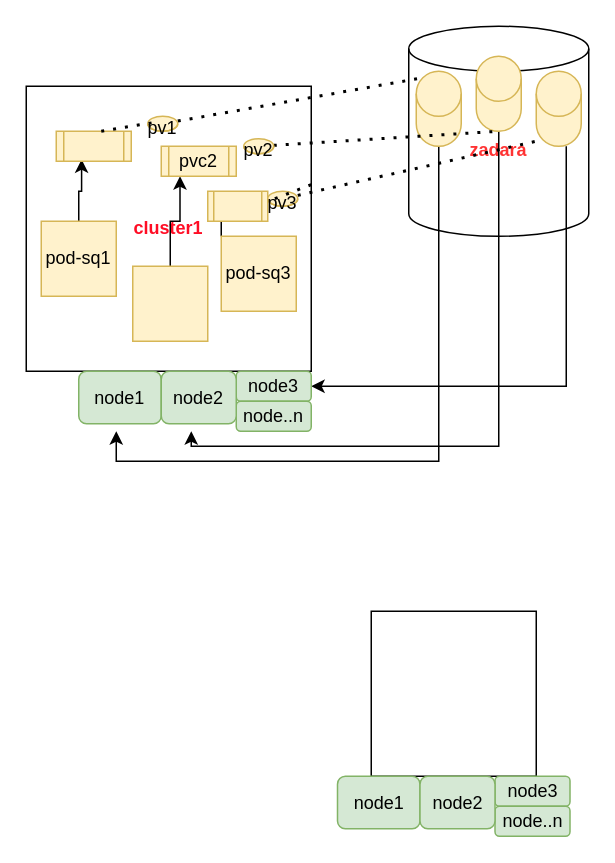
Some shapes in this 615 by 863 pixel diagram are drawn without their labels. Here are the shapes that lost their labels. From the top down, the centre of each, then its label:
point (438, 108): v1
point (498, 93): v2
point (558, 108): v3
point (93, 145): pvc1
point (237, 205): pvc3
point (169, 303): pod-sq2
point (453, 693): cluster2
